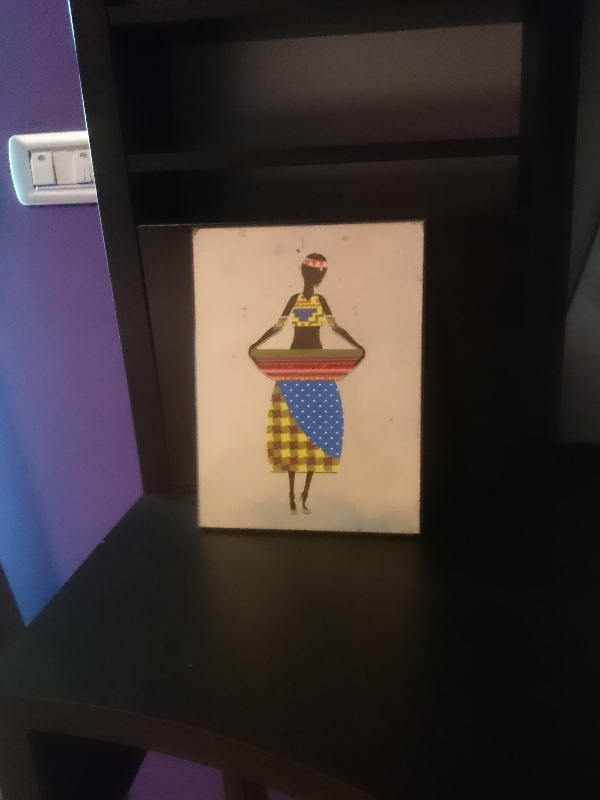my image: (190, 221, 426, 533)
